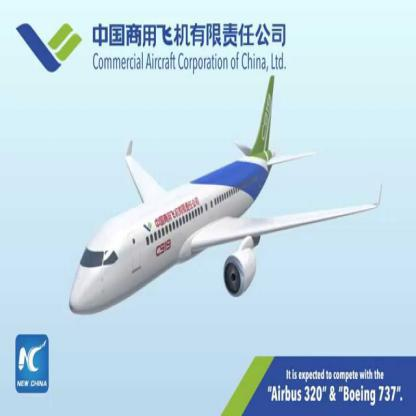CIV_Plane: (65, 70, 387, 333)
